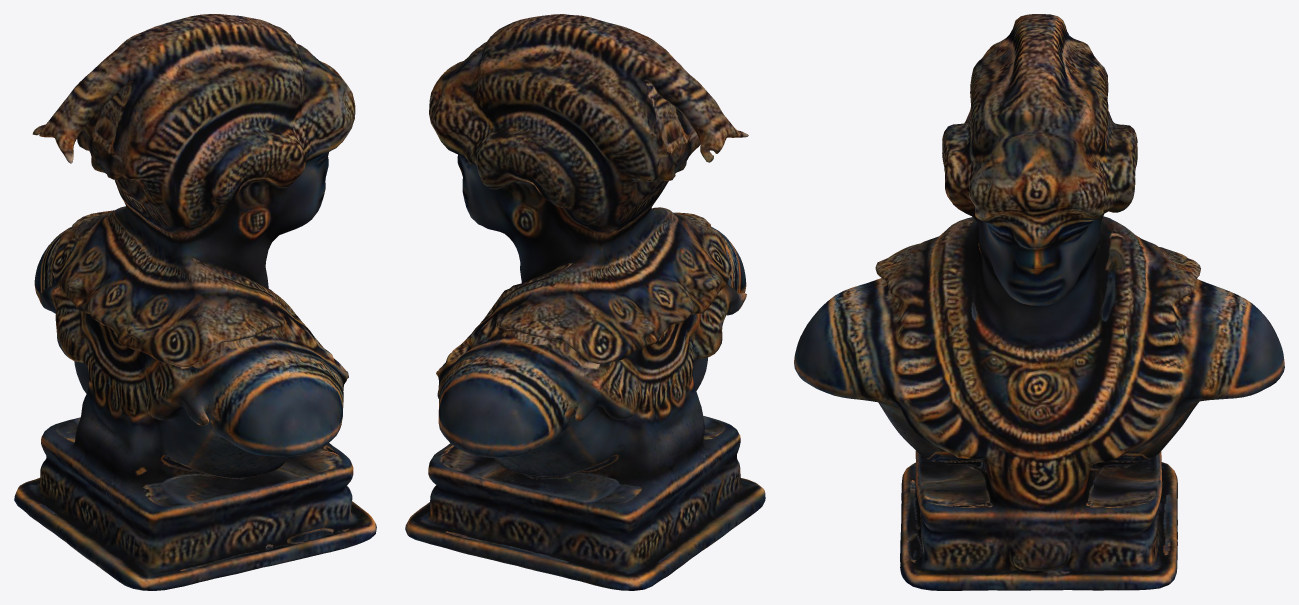
3 views of the same model, side by side, from view 1: azimuth 30°, elevation 25°; view 2: azimuth 150°, elevation 25°; view 3: azimuth 270°, elevation 25° (orthographic).
Parts seen in each view (by area): view 1: mesh; view 2: mesh; view 3: mesh.
Part boxes in pixels (box(x1,y1,x2,y2)): mesh: box(14, 14, 376, 590); mesh: box(405, 14, 765, 590); mesh: box(794, 14, 1284, 590).
Size of the model in its own units: 0.5991 by 0.9978 by 0.8918.
Materials: 1 (1 with a texture image).
